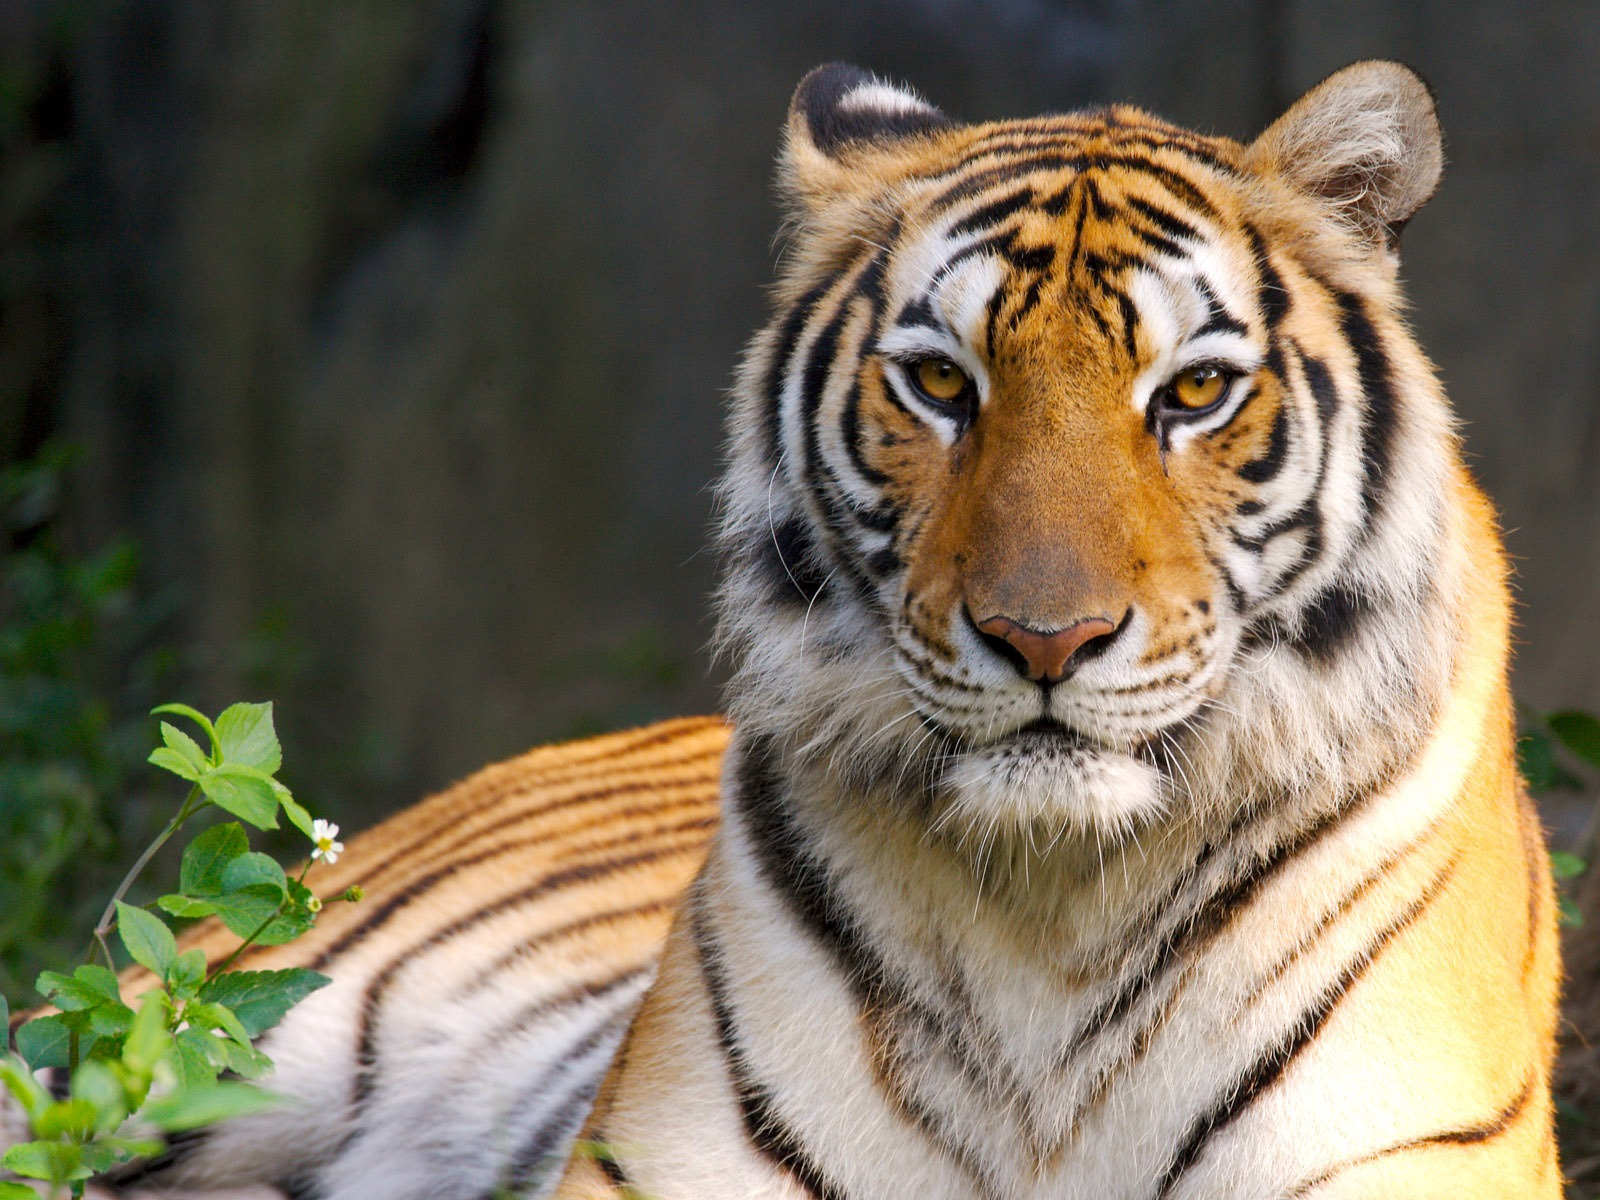Tigrew: (663, 29, 1511, 1066)
